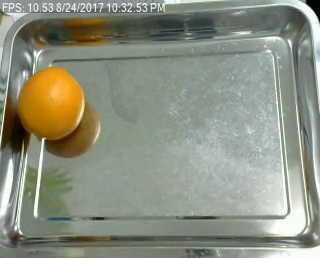Orange: (15, 68, 84, 140)
